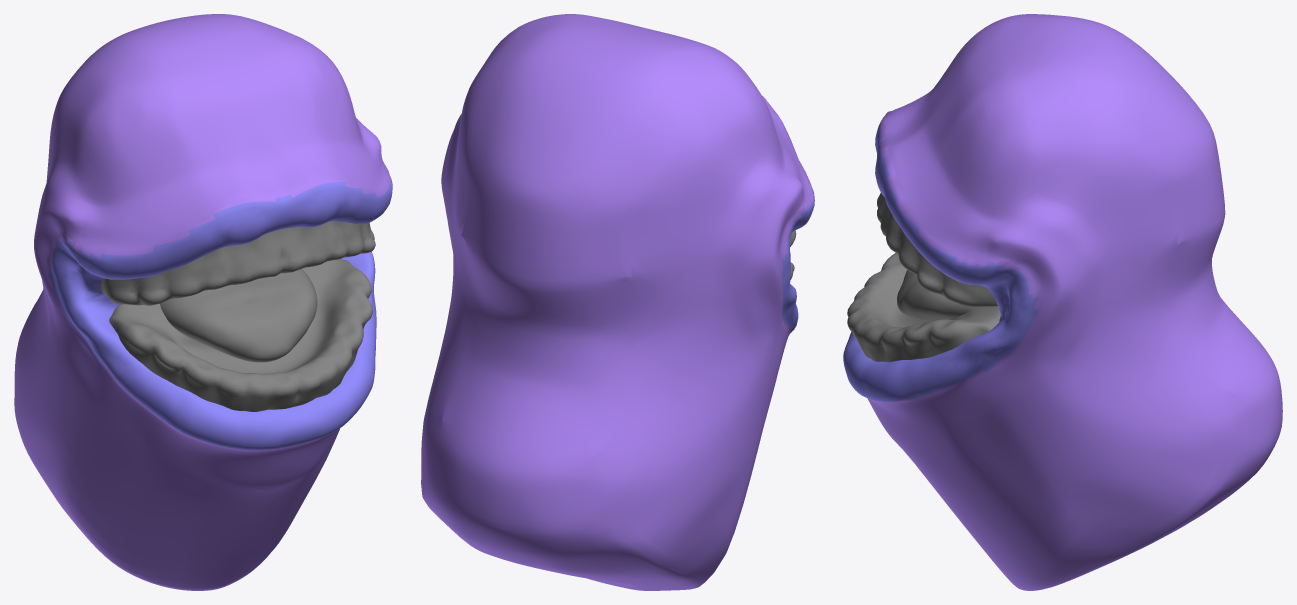
Rendered from bocca.fbx.
3 views of the same model, side by side, from view 1: azimuth 30°, elevation 25°; view 2: azimuth 150°, elevation 25°; view 3: azimuth 270°, elevation 25° (orthographic). The views are drawn at different scales.
Parts seen in each view (by area): view 1: Female_PlanesofHead_129, PM3D_Cylinder3D2_3, PM3D_Cylinder3D2, PM3D_Sphere3D2; view 2: Female_PlanesofHead_129; view 3: Female_PlanesofHead_129, PM3D_Cylinder3D2_3, PM3D_Cylinder3D2, PM3D_Sphere3D2.
Part boxes in pixels (bbox=[...]): Female_PlanesofHead_129: bbox=[14, 14, 392, 590]; PM3D_Cylinder3D2_3: bbox=[109, 259, 372, 411]; PM3D_Cylinder3D2: bbox=[101, 221, 375, 305]; PM3D_Sphere3D2: bbox=[160, 269, 317, 362]; Female_PlanesofHead_129: bbox=[421, 14, 814, 590]; Female_PlanesofHead_129: bbox=[843, 14, 1282, 590]; PM3D_Cylinder3D2_3: bbox=[847, 253, 1000, 362]; PM3D_Cylinder3D2: bbox=[877, 192, 997, 306]; PM3D_Sphere3D2: bbox=[897, 270, 975, 321].
Bounding box in the file's own units: 2.3 × 3.7 × 2.75.
